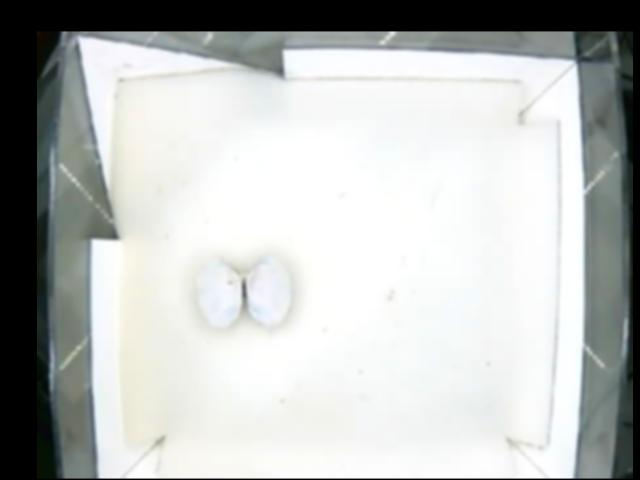Shell: (194, 255, 290, 329)
